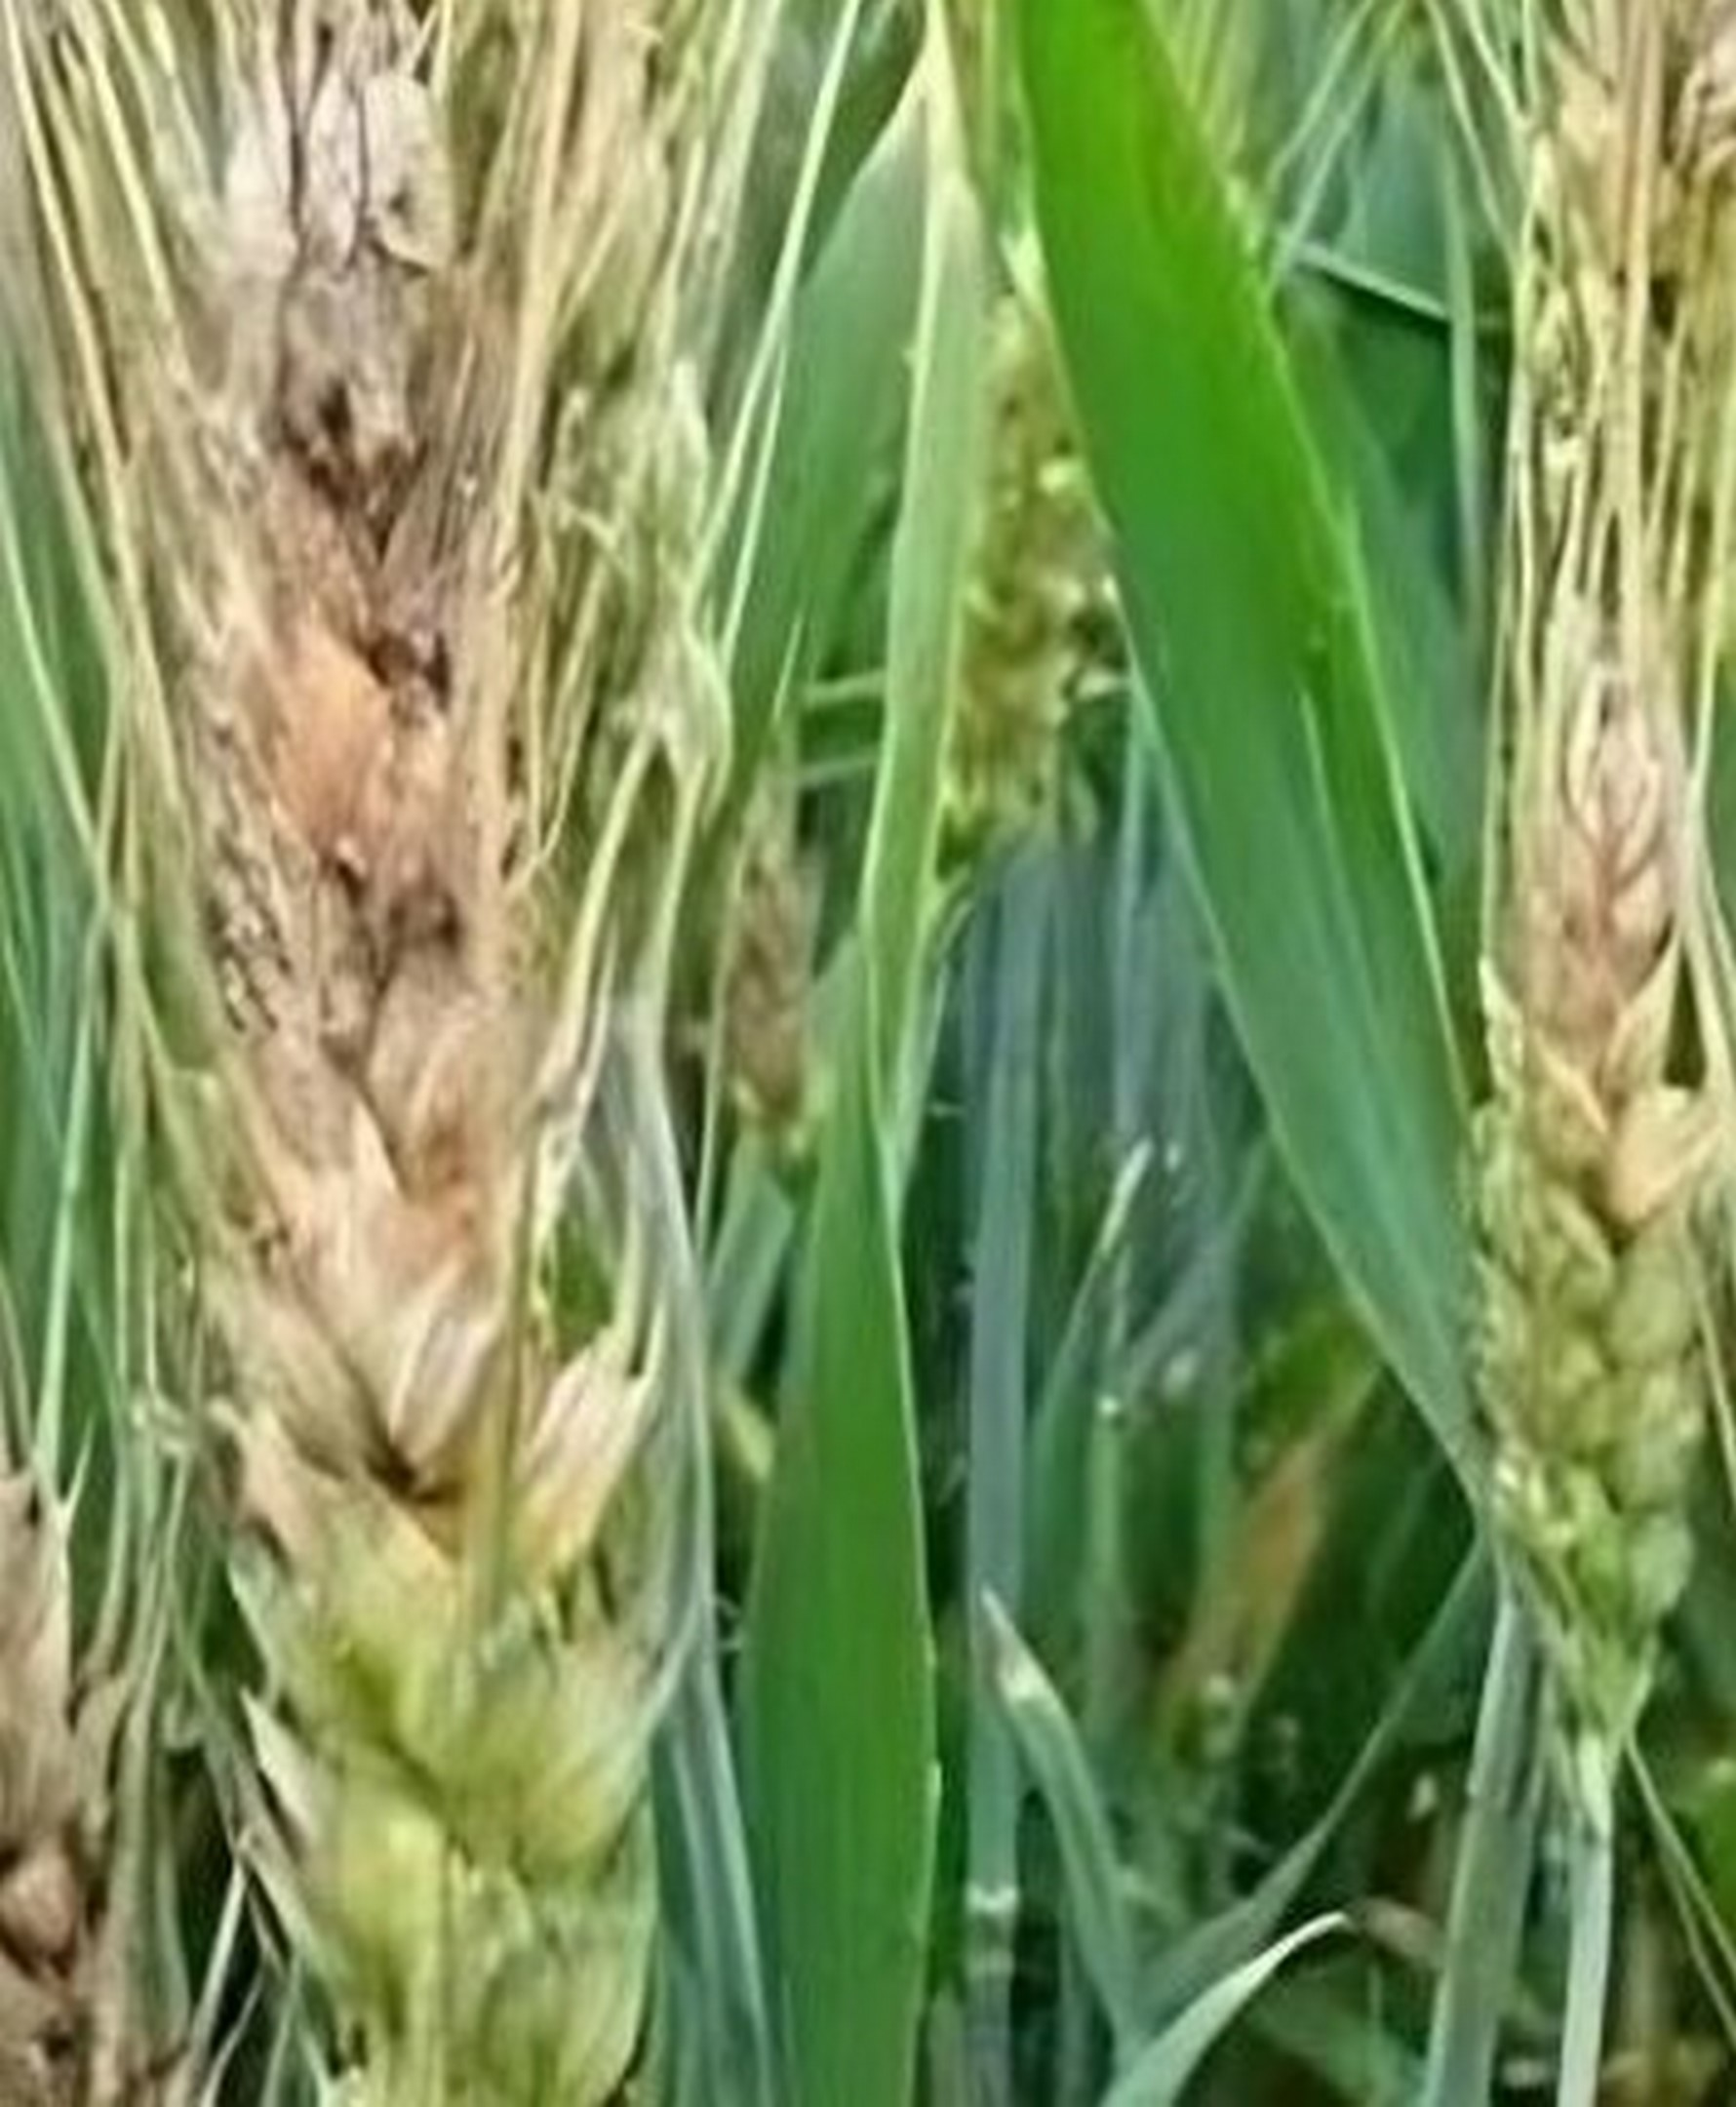Wheat scab: (115, 198, 726, 2016), (1396, 590, 1736, 1711)
